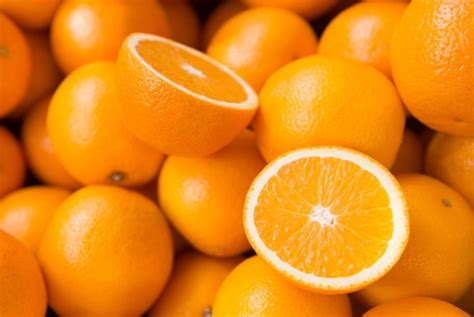orange: (32, 183, 175, 317), (253, 50, 406, 172), (42, 59, 169, 184)
